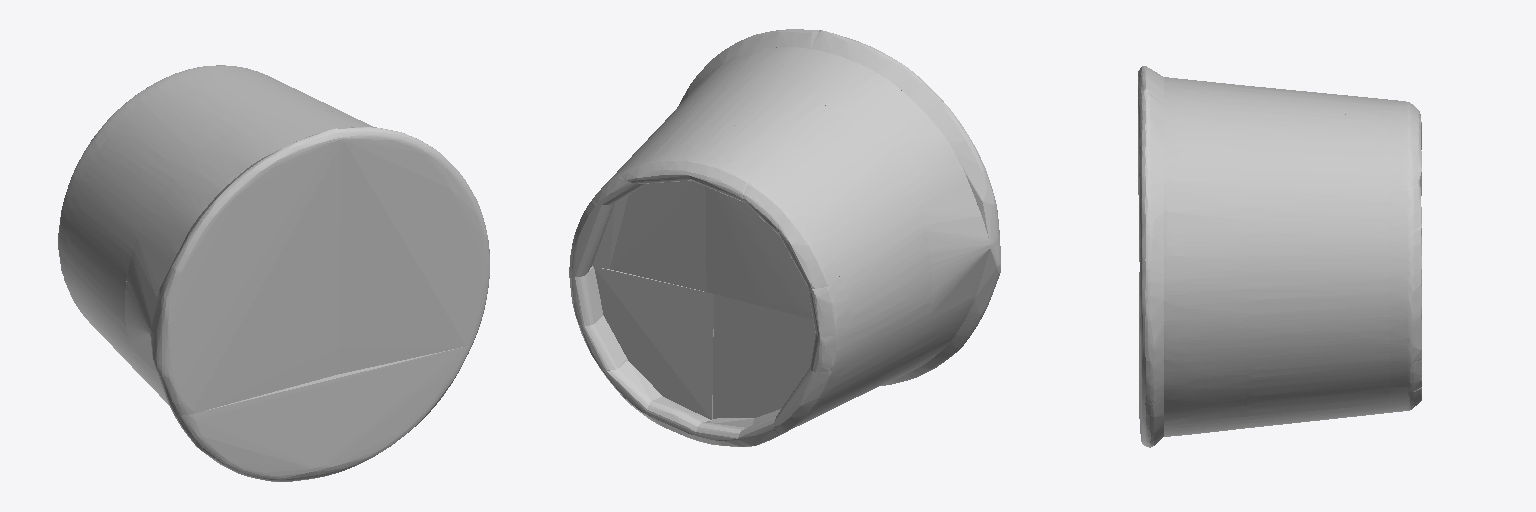
The model's file is coacd_collision.obj.
3 views of the same model, side by side, from view 1: azimuth 30°, elevation 25°; view 2: azimuth 150°, elevation 25°; view 3: azimuth 270°, elevation 25° (orthographic).
Visible parts, largest first — view 1: geometry_2, geometry_3, geometry_1, geometry_7, geometry_0, geometry_4, geometry_6, geometry_14; view 2: geometry_7, geometry_0, geometry_4, geometry_6, geometry_5, geometry_2, geometry_14, geometry_20, geometry_19, geometry_13, geometry_3, geometry_18 (+12 smaller); view 3: geometry_6, geometry_0, geometry_5, geometry_3, geometry_18, geometry_7, geometry_19, geometry_21, geometry_10, geometry_1, geometry_8, geometry_2 (+2 smaller).
Part boxes in pixels (x1,y1,x2,y2): geometry_2: (150, 128, 341, 415); geometry_3: (337, 127, 489, 374); geometry_1: (173, 344, 472, 481); geometry_7: (67, 72, 279, 303); geometry_0: (125, 109, 372, 404); geometry_4: (67, 249, 151, 386); geometry_6: (212, 71, 351, 116); geometry_14: (67, 117, 120, 199); geometry_7: (705, 88, 932, 327); geometry_0: (675, 47, 989, 387); geometry_4: (713, 279, 932, 425); geometry_6: (610, 85, 775, 291); geometry_5: (594, 267, 713, 419); geometry_2: (811, 30, 1000, 320); geometry_14: (778, 202, 839, 288); geometry_20: (774, 365, 842, 434); geometry_19: (620, 150, 704, 183); geometry_13: (689, 152, 757, 201); geometry_3: (679, 29, 819, 104); geometry_18: (569, 198, 614, 276); geometry_6: (1247, 106, 1387, 328); geometry_0: (1164, 77, 1246, 436); geometry_5: (1247, 321, 1389, 427); geometry_3: (1138, 91, 1163, 403); geometry_18: (1390, 226, 1421, 320); geometry_7: (1247, 86, 1388, 117); geometry_19: (1388, 118, 1421, 189); geometry_21: (1388, 182, 1421, 231); geometry_10: (1390, 317, 1421, 363); geometry_1: (1139, 272, 1163, 447); geometry_8: (1390, 359, 1421, 393); geometry_2: (1138, 66, 1163, 261).
Bounding box in the file's own units: 152 × 151 × 112.